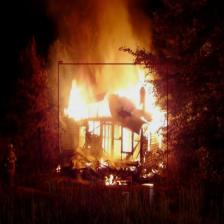fire: (58, 64, 168, 188)
